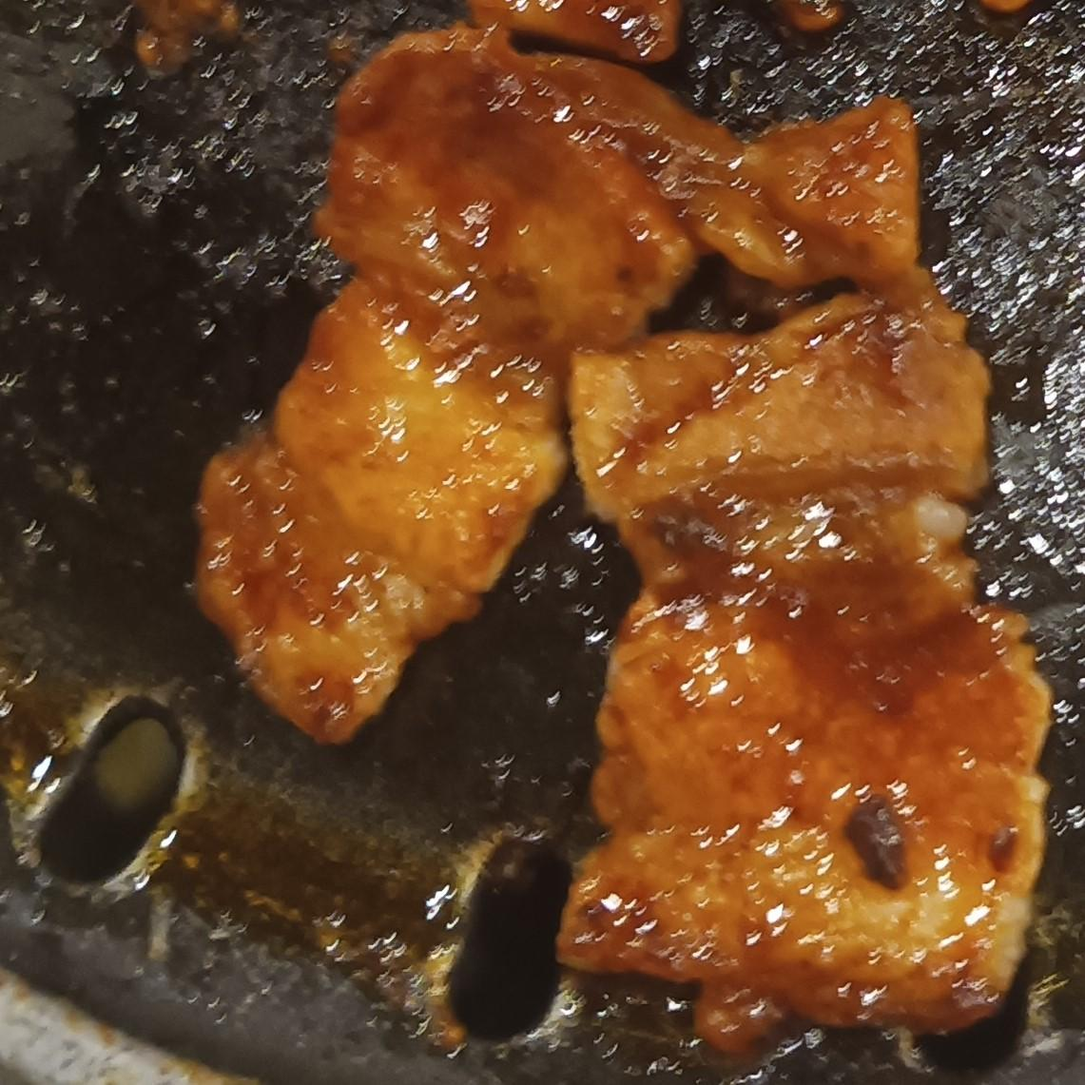Well-Cooked: (197, 0, 917, 742), (557, 287, 1052, 1059)
